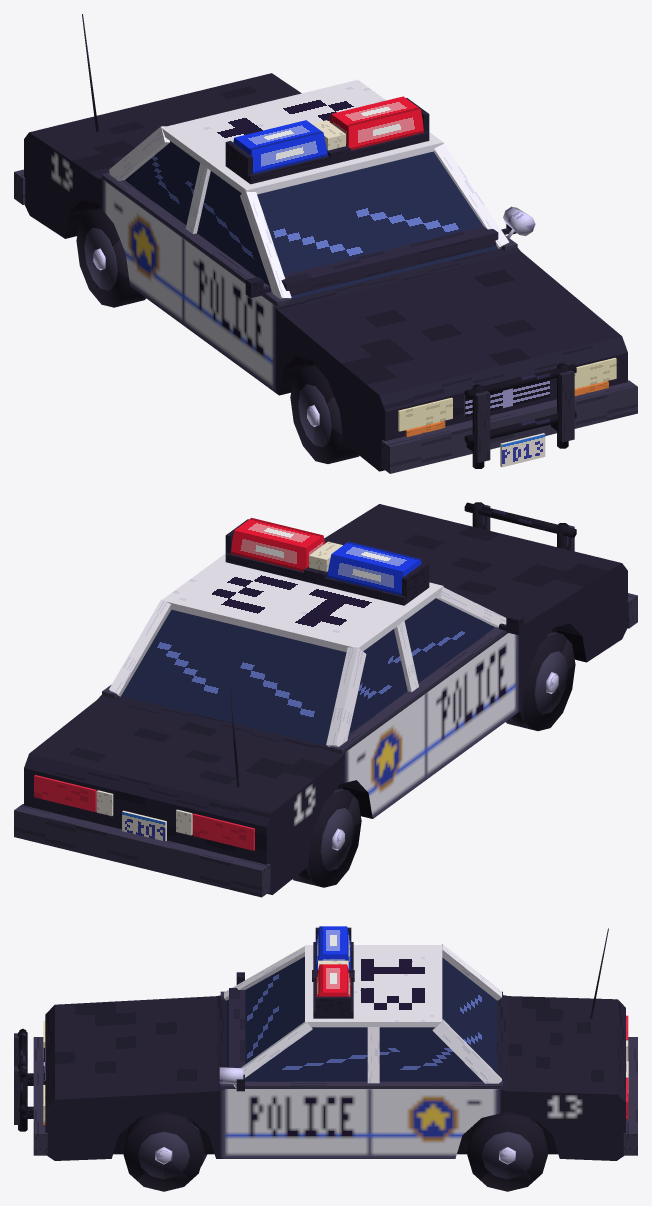
Rendered from Police Car.fbx.
3 views of the same model, one above another, from view 1: azimuth 30°, elevation 25°; view 2: azimuth 150°, elevation 25°; view 3: azimuth 270°, elevation 25° (orthographic). The views are drawn at different scales.
Parts seen in each view (by area): view 1: Police Car hull, Police Car windows, Police Car roof, Police Car front bumper, Police Car dash, Police Car light bar red, Police Car light bar blue, Police Car wheel RR tire, Police Car wheel FR tire, Police Car belt trim -1, Police Car light bar base, Police Car pillar A -1 (+15 smaller); view 2: Police Car hull, Police Car windows, Police Car roof, Police Car rear bumper, Police Car light bar red, Police Car light bar blue, Police Car wheel FR tire, Police Car wheel RR tire, Police Car belt trim -1, Police Car pillar C -1, Police Car light bar base, Police Car pillar C 1 (+10 smaller); view 3: Police Car hull, Police Car windows, Police Car roof, Police Car wheel FL tire, Police Car wheel RL tire, Police Car belt trim 1, Police Car wheel FL rim, Police Car wheel RL rim, Police Car front bumper, Police Car rear bumper, Police Car dash, Police Car pillar C 1 (+10 smaller).
Boxes of the visible parts, x1=… form: Police Car hull: x1=24, y1=73, x2=627, y2=471; Police Car windows: x1=125, y1=141, x2=497, y2=299; Police Car roof: x1=162, y1=80, x2=443, y2=194; Police Car front bumper: x1=381, y1=380, x2=637, y2=473; Police Car dash: x1=281, y1=226, x2=498, y2=295; Police Car light bar red: x1=329, y1=96, x2=423, y2=150; Police Car light bar blue: x1=233, y1=120, x2=327, y2=174; Police Car wheel RR tire: x1=76, y1=207, x2=145, y2=307; Police Car wheel FR tire: x1=290, y1=364, x2=359, y2=463; Police Car belt trim -1: x1=102, y1=172, x2=290, y2=306; Police Car light bar base: x1=225, y1=131, x2=429, y2=184; Police Car pillar A -1: x1=240, y1=189, x2=291, y2=299; Police Car hull: x1=24, y1=504, x2=627, y2=894; Police Car windows: x1=121, y1=598, x2=494, y2=746; Police Car roof: x1=162, y1=553, x2=443, y2=652; Police Car rear bumper: x1=14, y1=804, x2=270, y2=897; Police Car light bar red: x1=231, y1=518, x2=325, y2=571; Police Car light bar blue: x1=327, y1=541, x2=421, y2=595; Police Car wheel FR tire: x1=506, y1=631, x2=575, y2=730; Police Car wheel RR tire: x1=292, y1=788, x2=361, y2=887; Police Car belt trim -1: x1=329, y1=627, x2=506, y2=753; Police Car pillar C -1: x1=326, y1=647, x2=366, y2=746; Police Car light bar base: x1=225, y1=553, x2=429, y2=605; Police Car pillar C 1: x1=109, y1=599, x2=170, y2=696; Police Car hull: x1=45, y1=995, x2=625, y2=1160; Police Car windows: x1=226, y1=956, x2=496, y2=1081; Police Car roof: x1=305, y1=945, x2=442, y2=1027; Police Car wheel FL tire: x1=123, y1=1111, x2=204, y2=1191; Police Car wheel RL tire: x1=467, y1=1111, x2=547, y2=1191; Police Car belt trim 1: x1=220, y1=1081, x2=502, y2=1088; Police Car wheel FL rim: x1=138, y1=1131, x2=189, y2=1179; Police Car wheel RL rim: x1=481, y1=1131, x2=533, y2=1179; Police Car front bumper: x1=33, y1=1037, x2=47, y2=1155; Police Car rear bumper: x1=623, y1=1037, x2=637, y2=1155; Police Car dash: x1=229, y1=988, x2=245, y2=1067; Police Car pillar C 1: x1=432, y1=1019, x2=501, y2=1083.
Size of the model in its own units: 2.14 by 1.81 by 5.27.
Materials: 30 (30 with a texture image).
